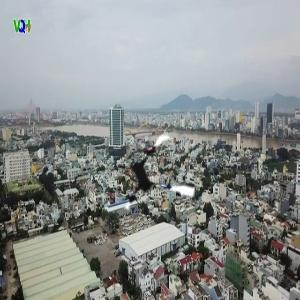drone: (110, 132, 203, 225)
